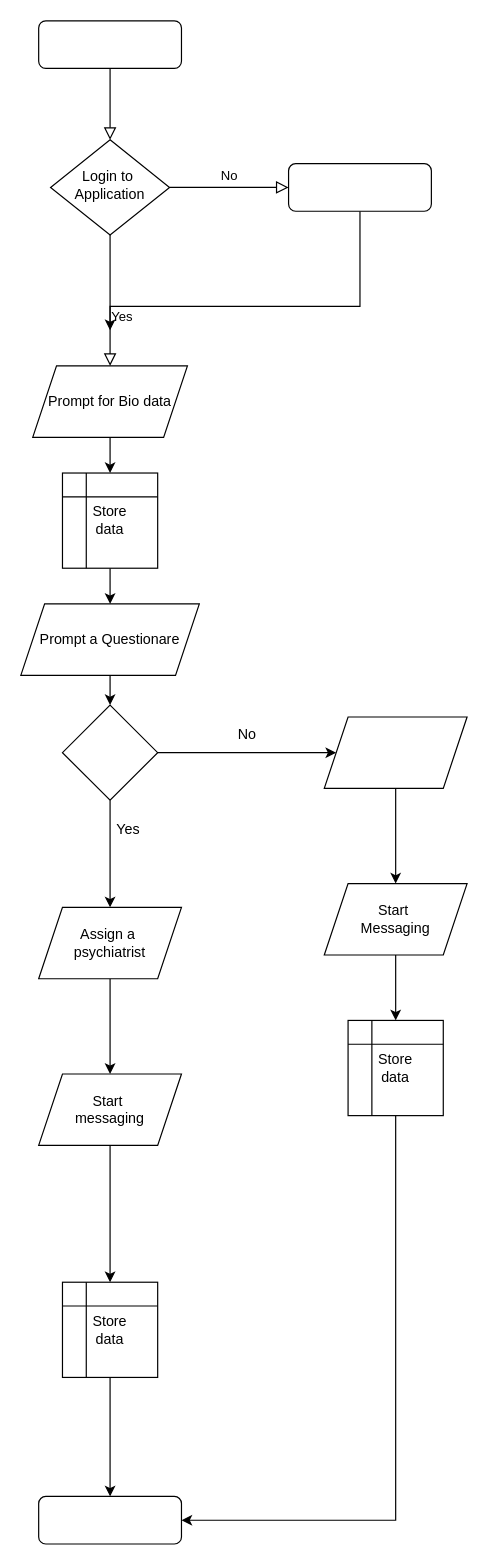
Some shapes in this 488 by 1565 pixel diagram are drawn without their labels. The shapes that lost their labels are listed below. From the top down, each one's box as (x1, y1, x2, y2) in pixels, then its label:
(37, 20, 181, 68): Download Application
(287, 162, 431, 211): Register for application
(61, 704, 158, 800): Score <50
(323, 716, 467, 788): Assign a Doctor
(37, 1495, 181, 1544): End process
